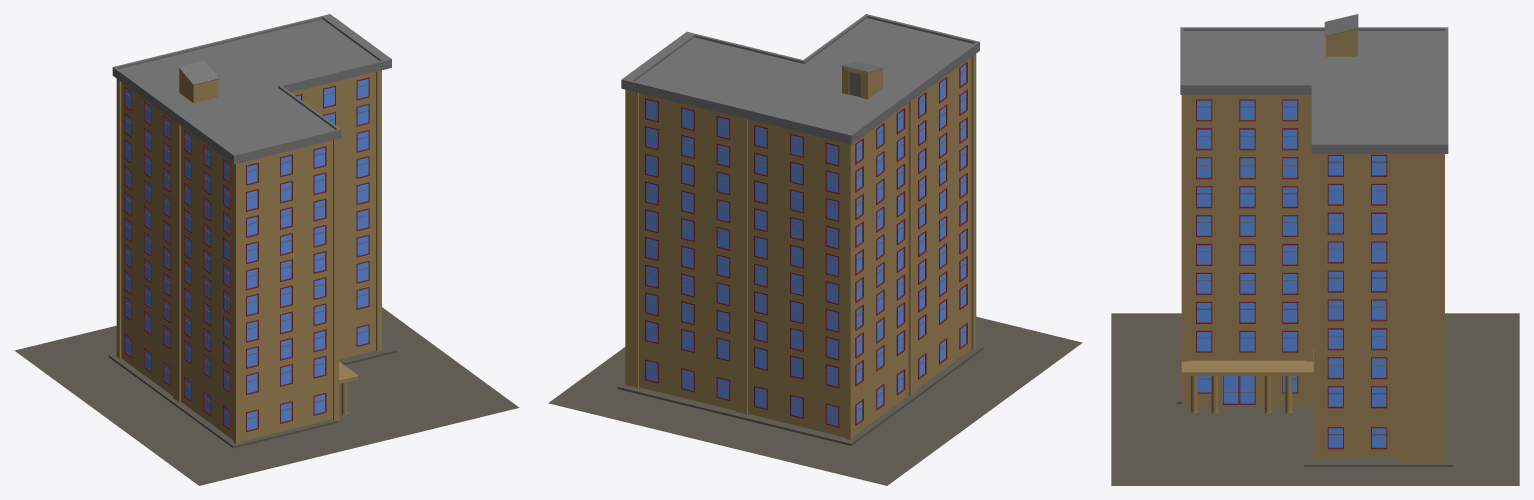
Rendered from uploads_files_3812737_building.fbx.
The picture shows the model from 3 angles, left to right: view 1: azimuth 30°, elevation 25°; view 2: azimuth 150°, elevation 25°; view 3: azimuth 270°, elevation 25°; orthographic projection. The views are drawn at different scales.
Parts seen in each view (by area): view 1: Cube.005, Plane; view 2: Cube.005, Plane; view 3: Cube.005, Plane.
Part boxes in pixels (x1,y1,x2,y2): Cube.005: [112, 14, 391, 443]; Plane: [14, 307, 519, 485]; Cube.005: [621, 14, 979, 439]; Plane: [548, 316, 1082, 485]; Cube.005: [1180, 14, 1448, 462]; Plane: [1111, 313, 1519, 485].
Size of the model in its own units: 1433 by 1355 by 1433.
